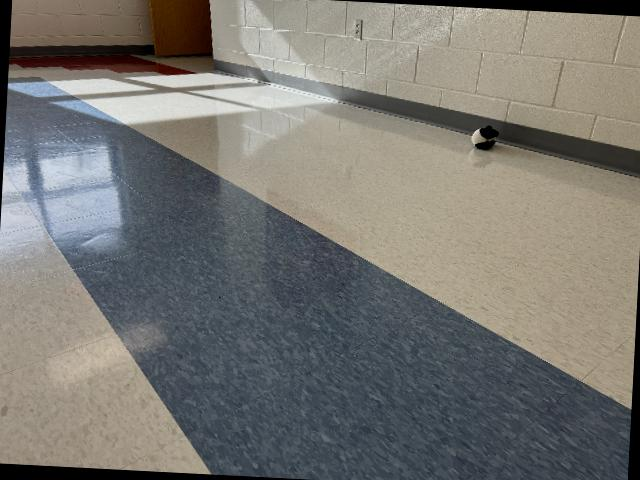panda_plushie: (471, 125, 498, 150)
